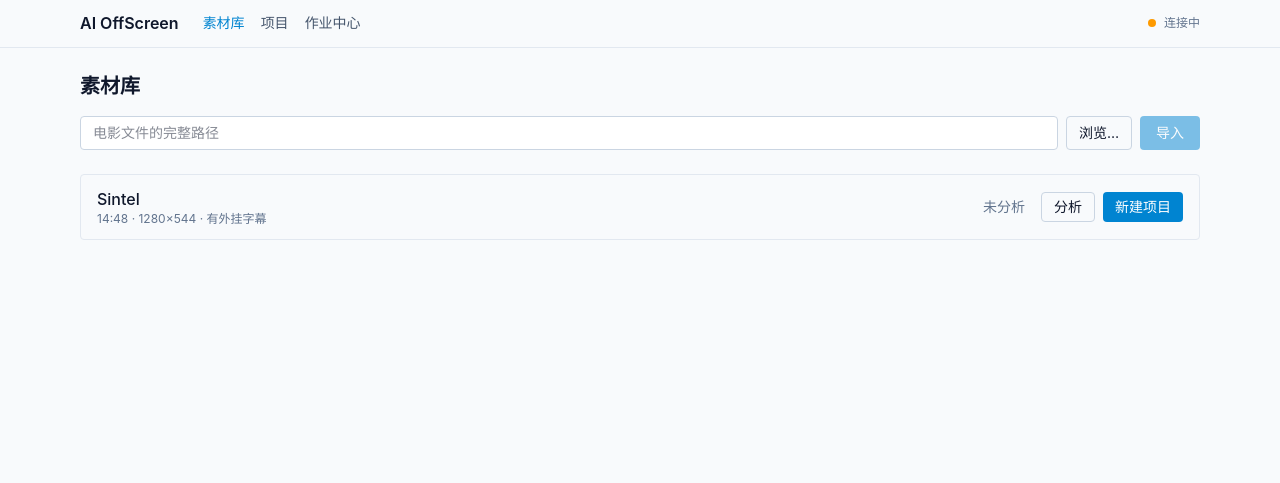
Test case: library: asset list › creates a project and opens it
This screenshot has width=1280, height=483.
Click the button "新建项目": point(1143, 207) [1103,192,1183,222]
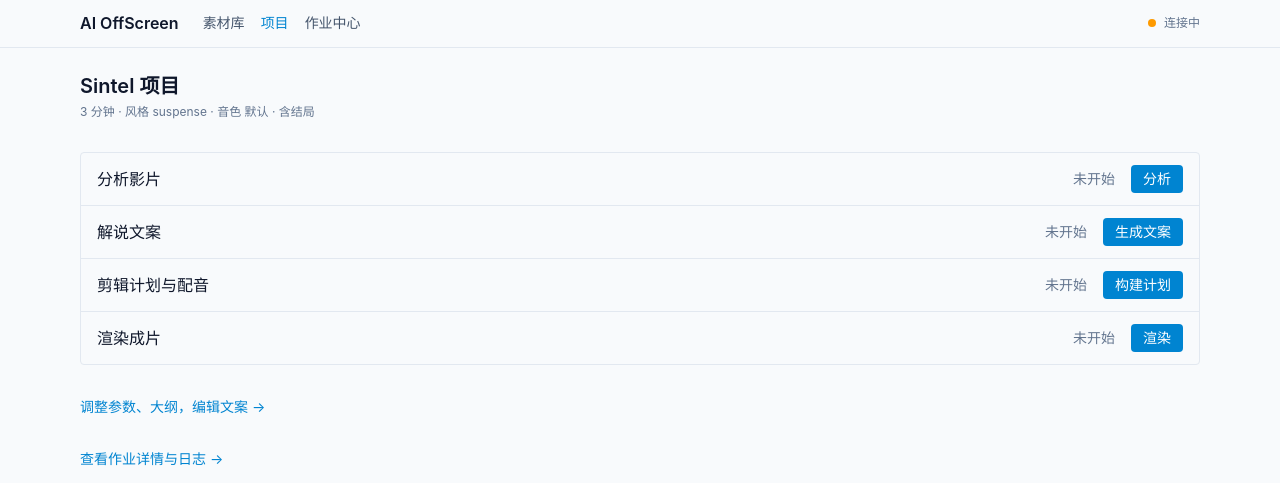
Expected: the heading "Sintel 项目" is shown, [80,74,180,98]
